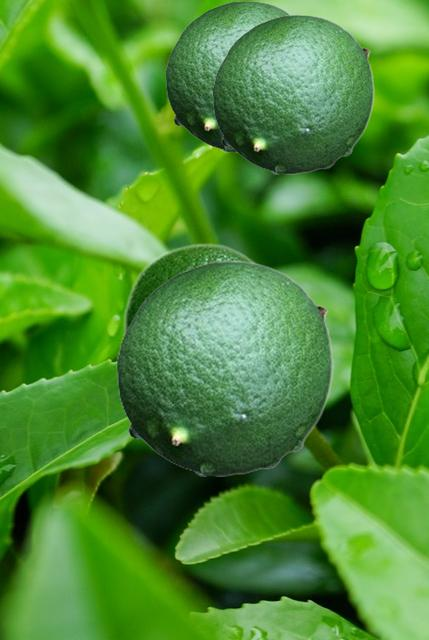calamansi: (116, 260, 332, 475), (212, 14, 373, 173), (165, 0, 292, 151), (122, 242, 257, 336)
